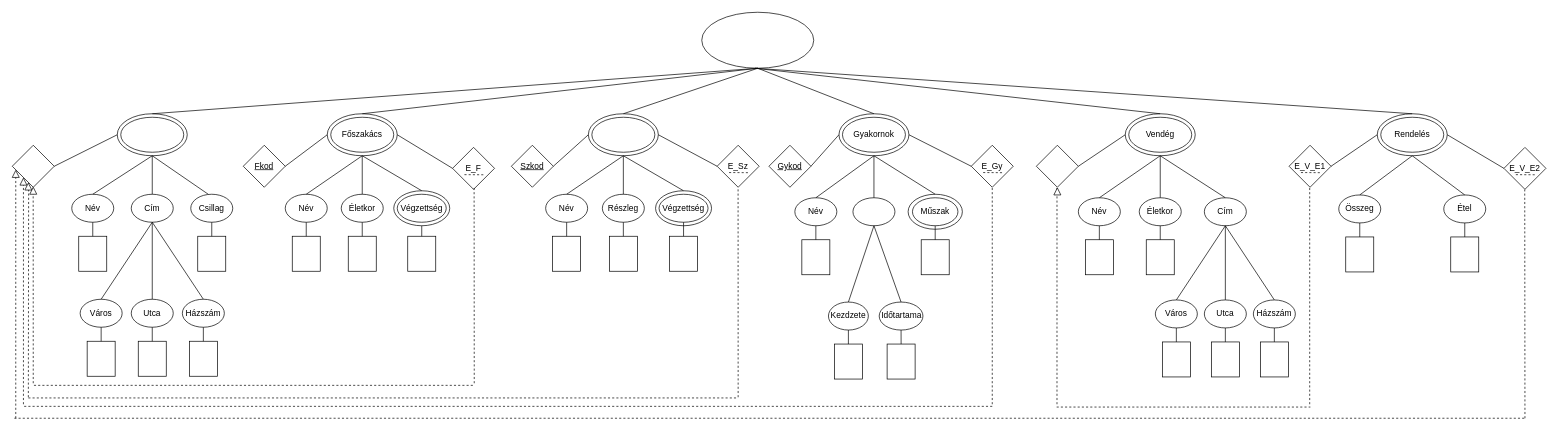
The diagram is 1558 pixels wide and 431 high, and some of its shapes have lost their labels. Each missing label, with the centre of its shape:
Ekod: [33,166]
GJWXEU_Vendéglátás: [757,40]
Gyakorlat: [873,211]
Szakács: [623,134]
Vkod: [1057,166]
Étterem: [152,134]
